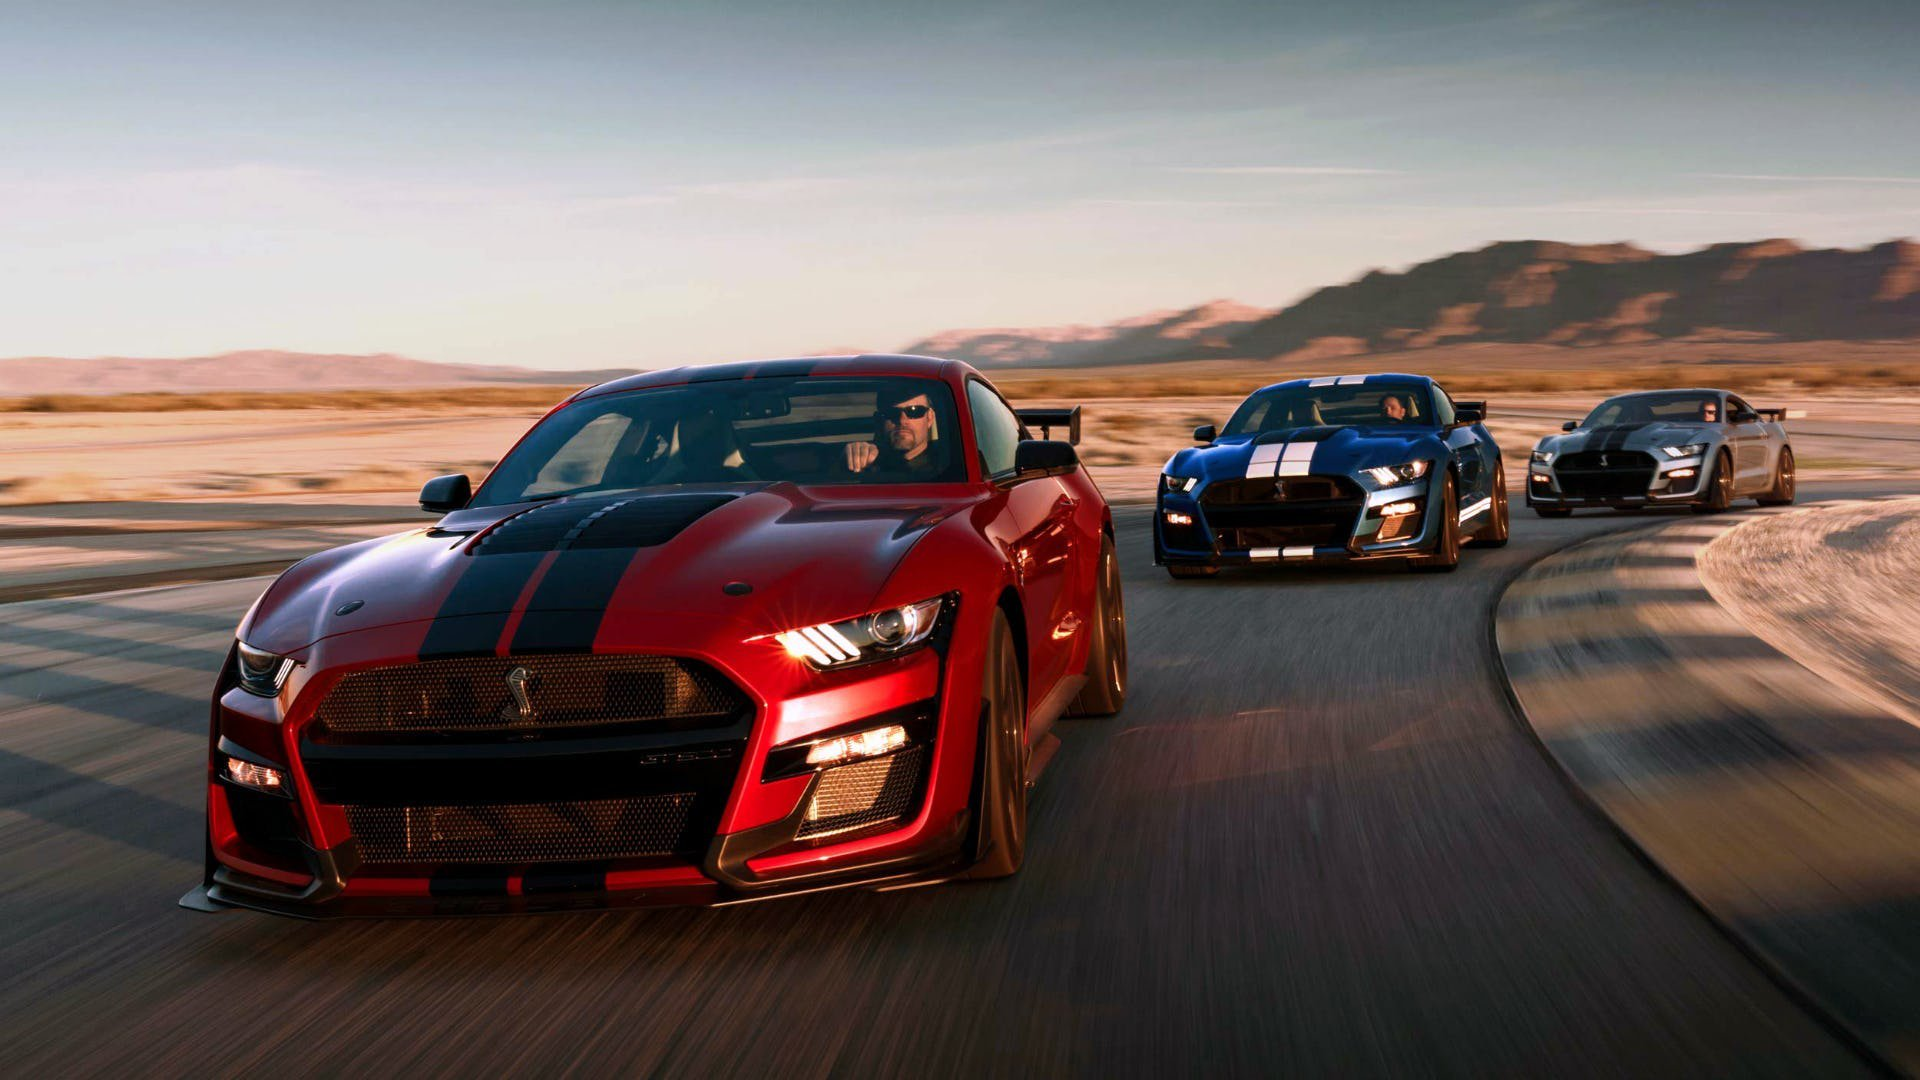car: (187, 340, 1142, 944), (1153, 369, 1495, 570), (1527, 372, 1807, 517)
